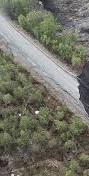smoke: (59, 1, 89, 33)
